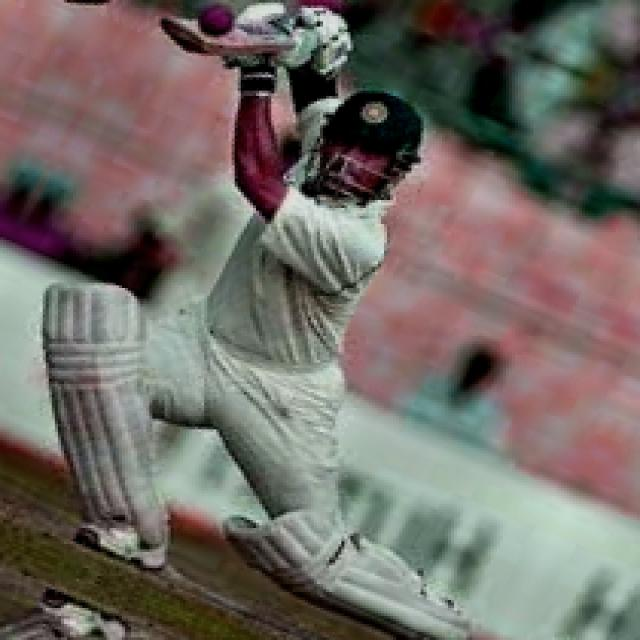toe: (154, 7, 229, 63)
